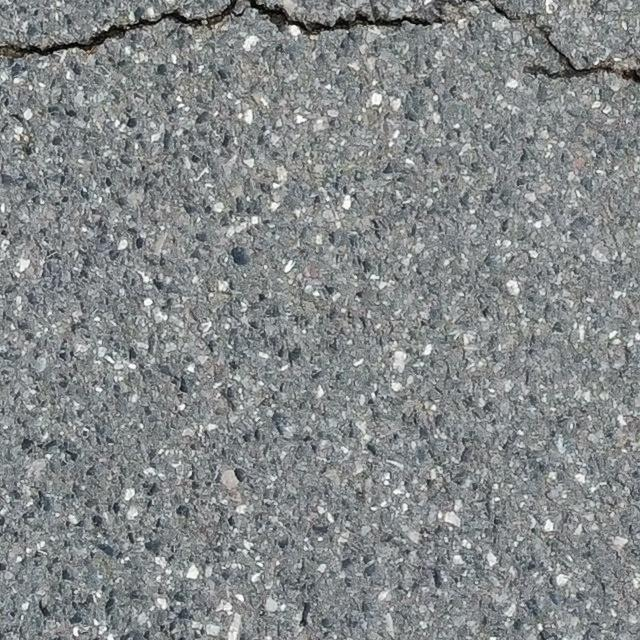TransverseCrack: (1, 1, 640, 82)
